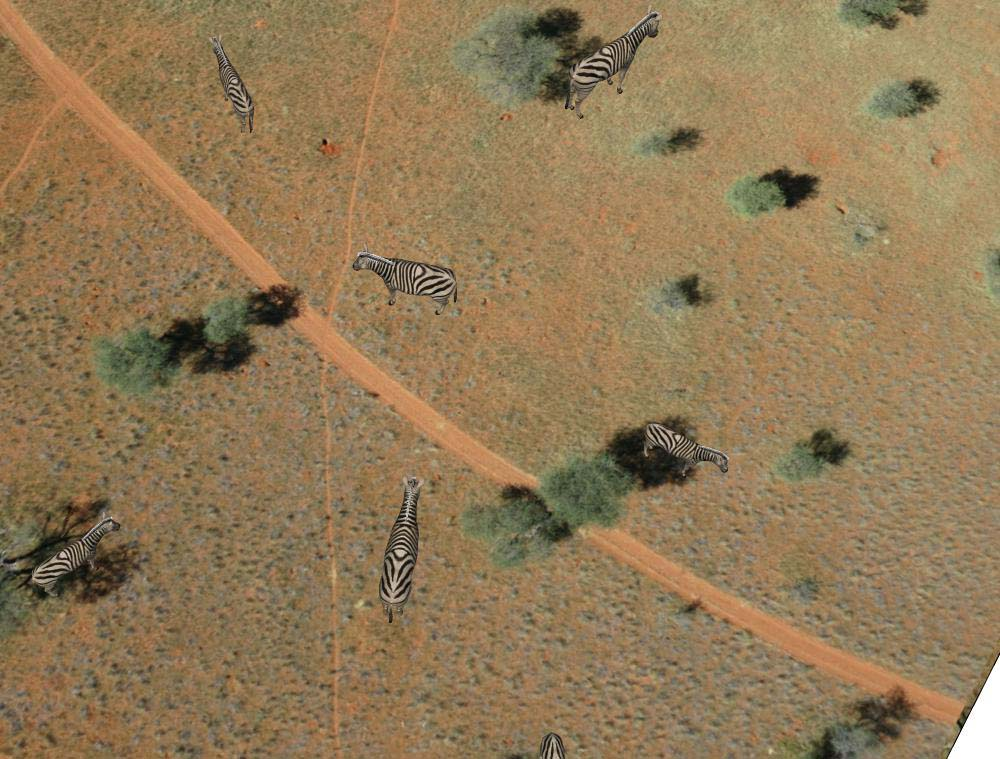zebra: (569, 7, 659, 118), (350, 250, 466, 315), (377, 475, 425, 619), (33, 519, 121, 596), (634, 421, 733, 483), (204, 35, 261, 134), (537, 727, 567, 759)
